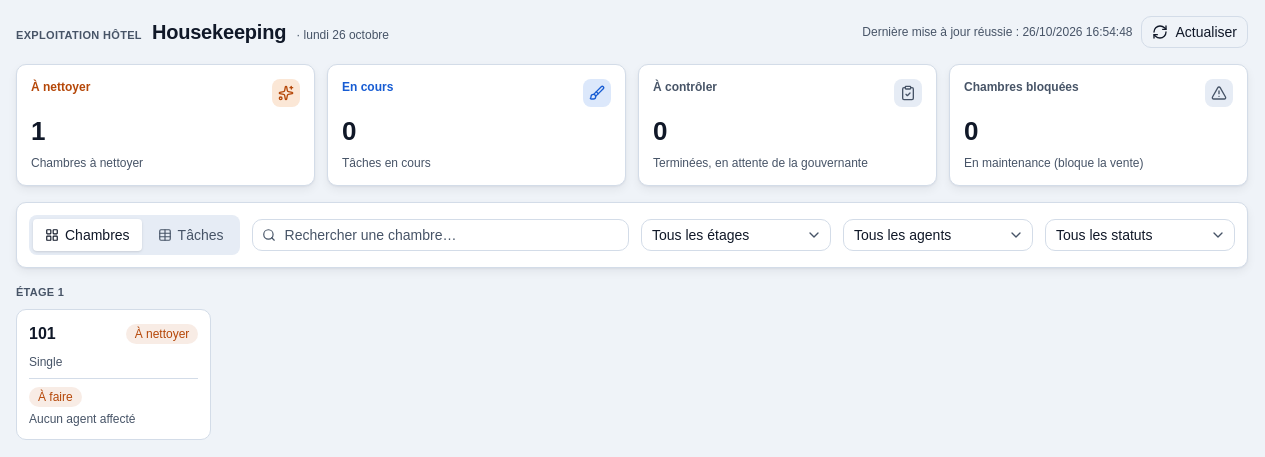
Scenario: HousekeepingPage — vues et indicateurs › bascule vers la vue Tâches
Expected: the text "101" is shown, [29,322,56,346]
Click the tab "Tâches" at (191, 235), box [146,219,236,251]
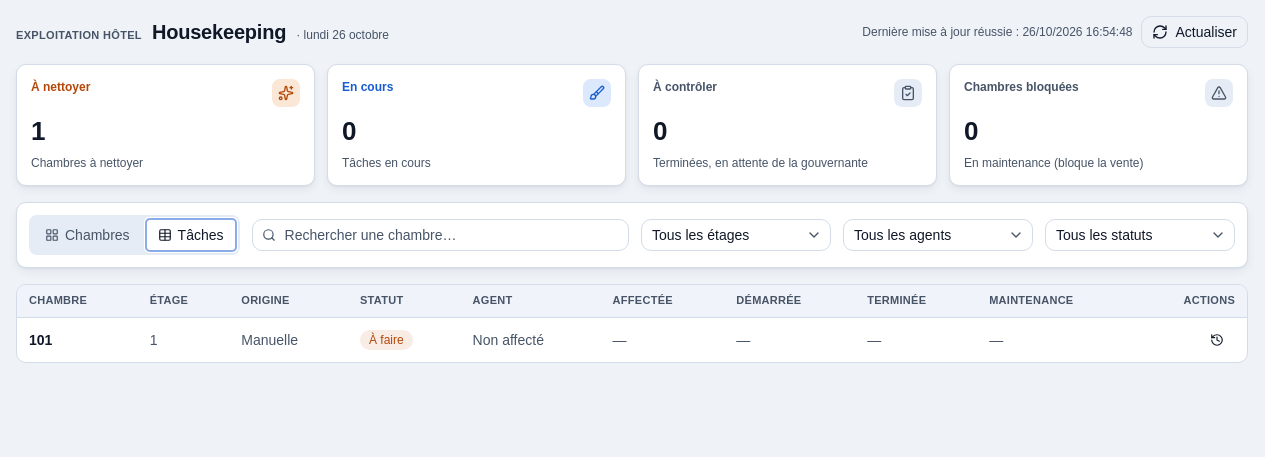
Now the table is shown, box [17,285,1247,362]
